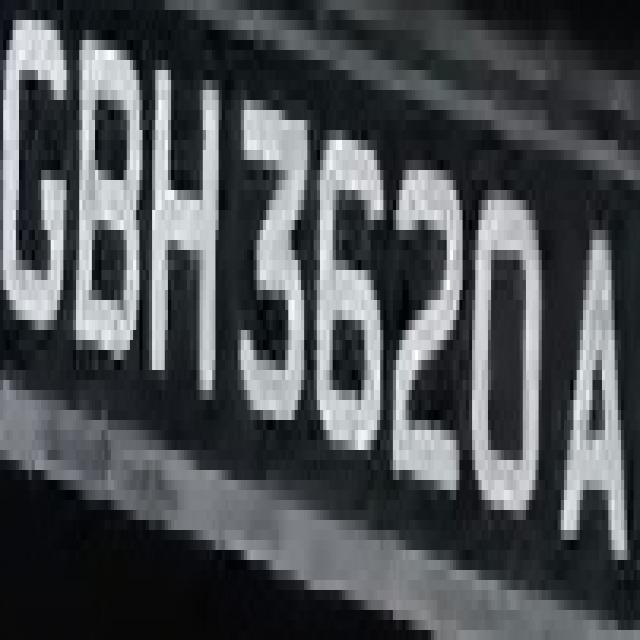0: (469, 160, 545, 550)
2: (390, 100, 469, 540)
3: (231, 30, 320, 470)
6: (317, 100, 383, 490)
A: (554, 180, 634, 570)
B: (70, 0, 149, 370)
G: (9, 0, 73, 360)
H: (149, 10, 219, 390)
